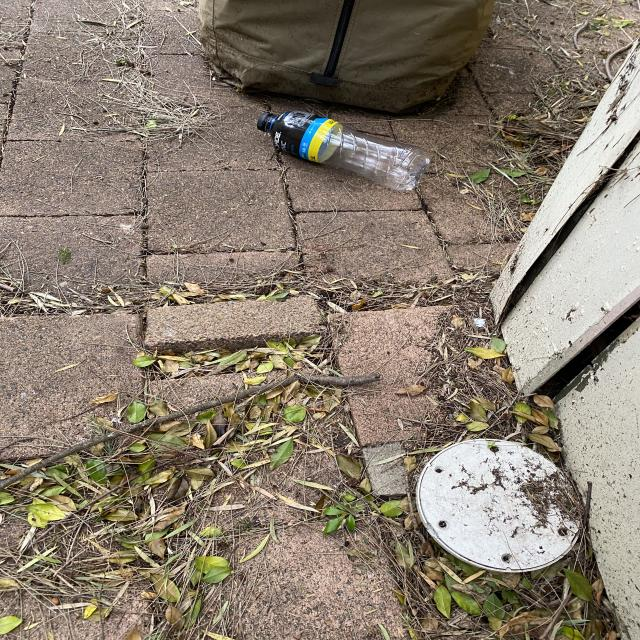bottle: (255, 109, 430, 191)
